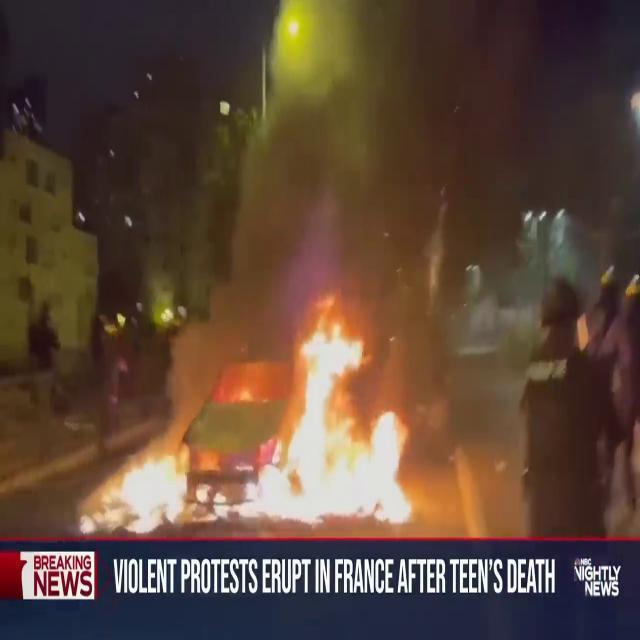Fire: (258, 301, 428, 531), (76, 432, 214, 538)
Smoke: (192, 1, 630, 328)
